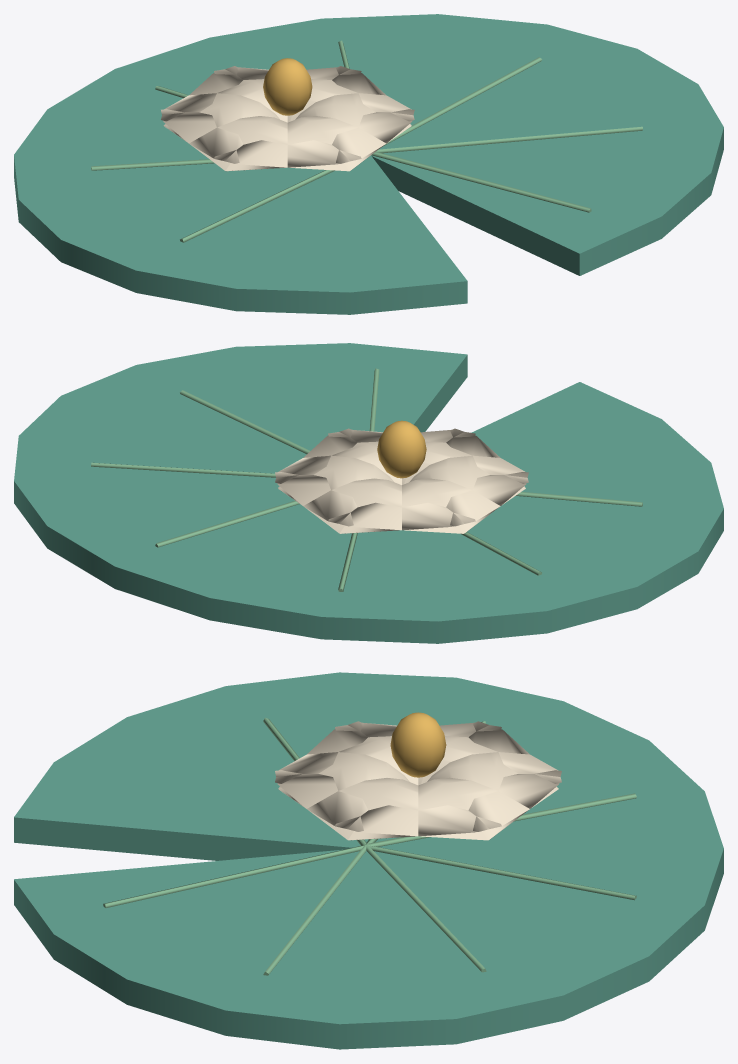
The model's file is lily-pad.glb.
3 views of the same model, one above another, from view 1: azimuth 30°, elevation 25°; view 2: azimuth 150°, elevation 25°; view 3: azimuth 270°, elevation 25° (orthographic). The views are drawn at different scales.
Visible parts, largest first — view 1: Vesper / lily-pad; view 2: Vesper / lily-pad; view 3: Vesper / lily-pad.
Part boxes in pixels (bbox=[...]): Vesper / lily-pad: bbox=[14, 14, 723, 314]; Vesper / lily-pad: bbox=[14, 343, 723, 643]; Vesper / lily-pad: bbox=[14, 672, 723, 1049].
Bounding box in the file's own units: 2.23 × 0.3775 × 1.91.
